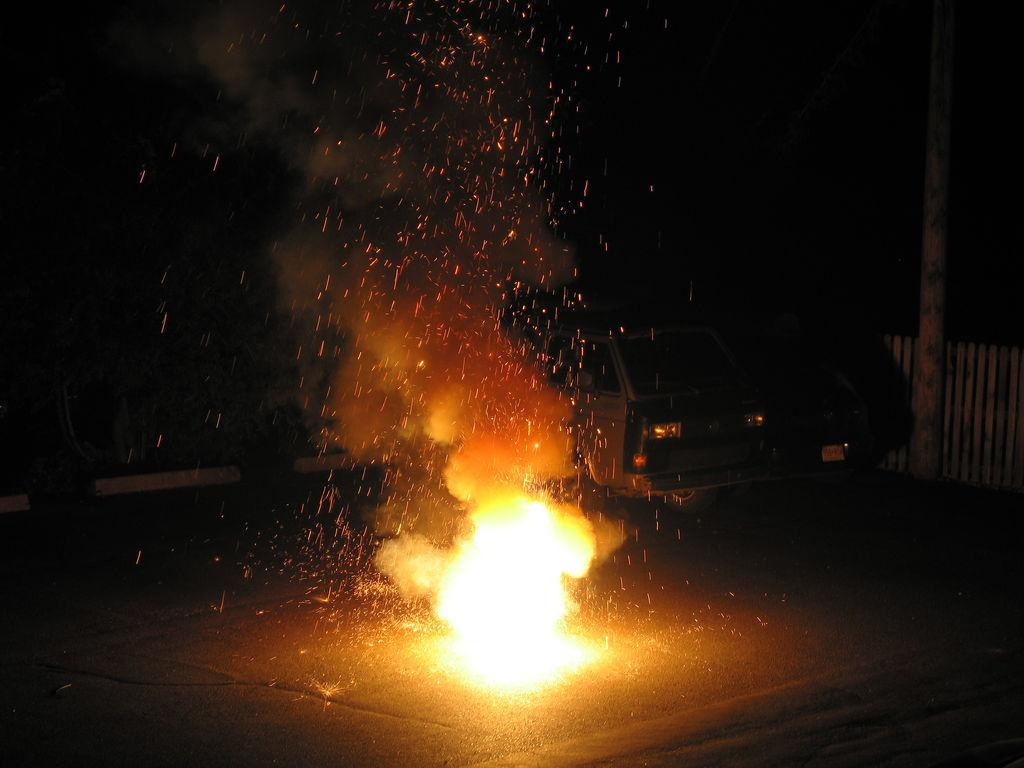fire: (428, 498, 596, 674)
smoke: (306, 42, 554, 334)
